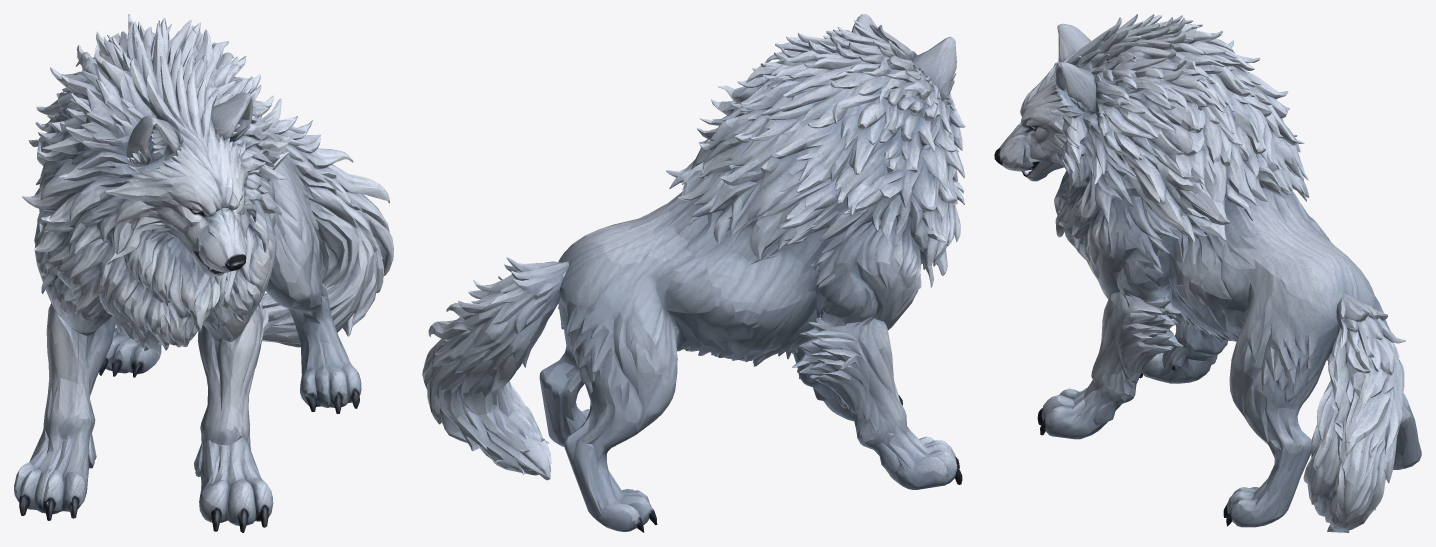
Rendered from duskfang_white.glb.
3 views of the same model, side by side, from view 1: azimuth 30°, elevation 25°; view 2: azimuth 150°, elevation 25°; view 3: azimuth 270°, elevation 25° (orthographic). The views are drawn at different scales.
Bounding box in the file's own units: 1.9 × 1.78 × 1.7.
Materials: 1 (1 with a texture image).
